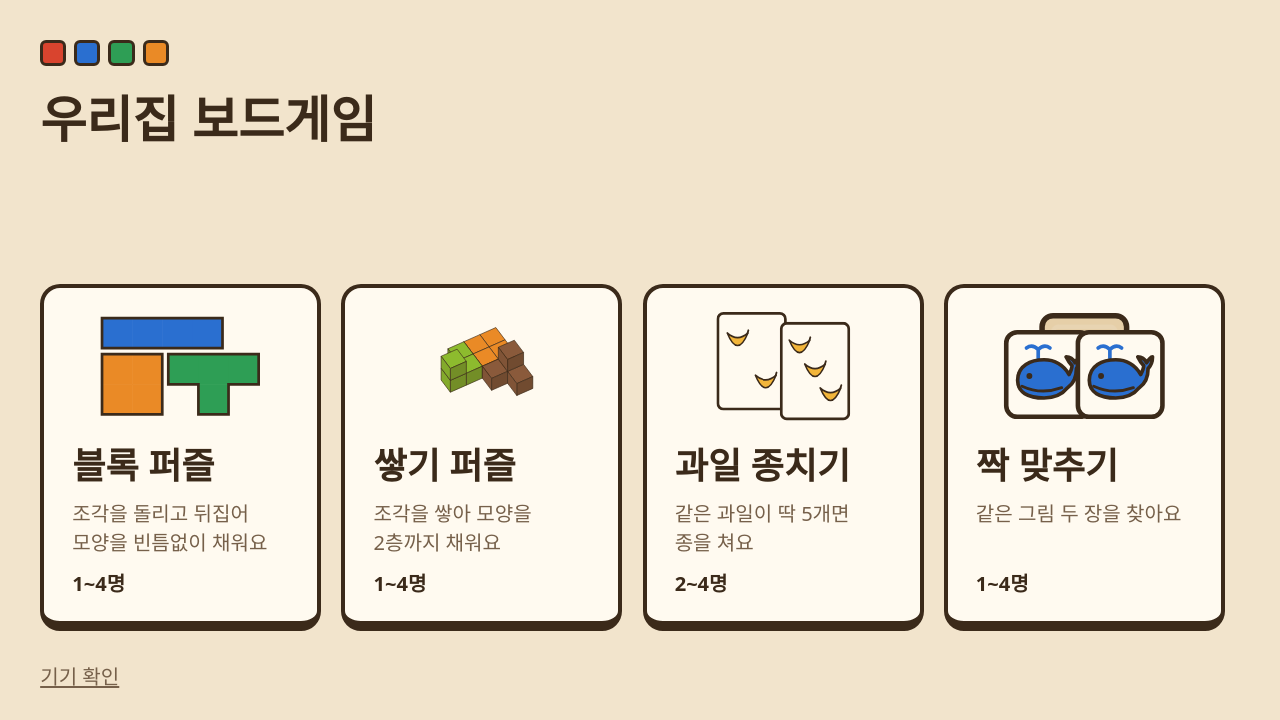
Test: App › 설정에서 메뉴로 돌아갈 수 있다
This screenshot has width=1280, height=720.
Click the button "블록 퍼즐 조각을 돌리고 뒤집어 모양을 빈틈없이 채워요 1~4명": {"x": 181, "y": 457} x1=40 y1=284 x2=321 y2=631
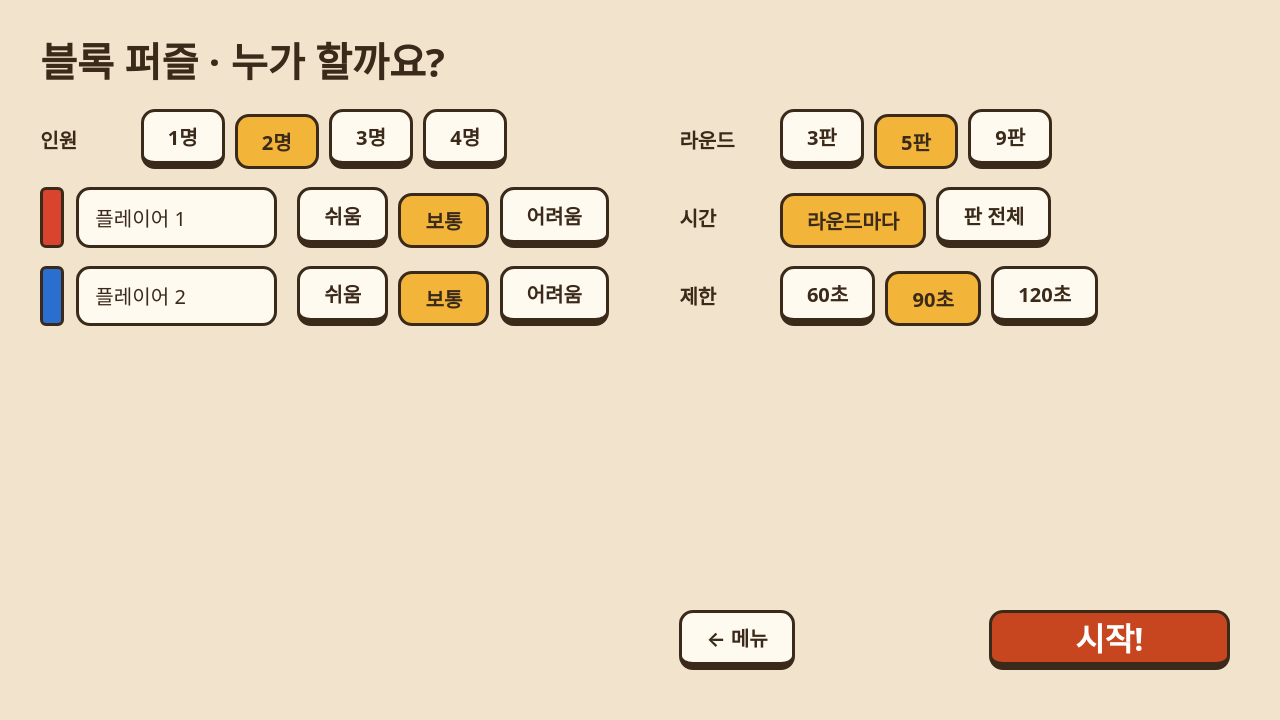
Click the button "← 메뉴": {"x": 737, "y": 640} x1=679 y1=610 x2=795 y2=670
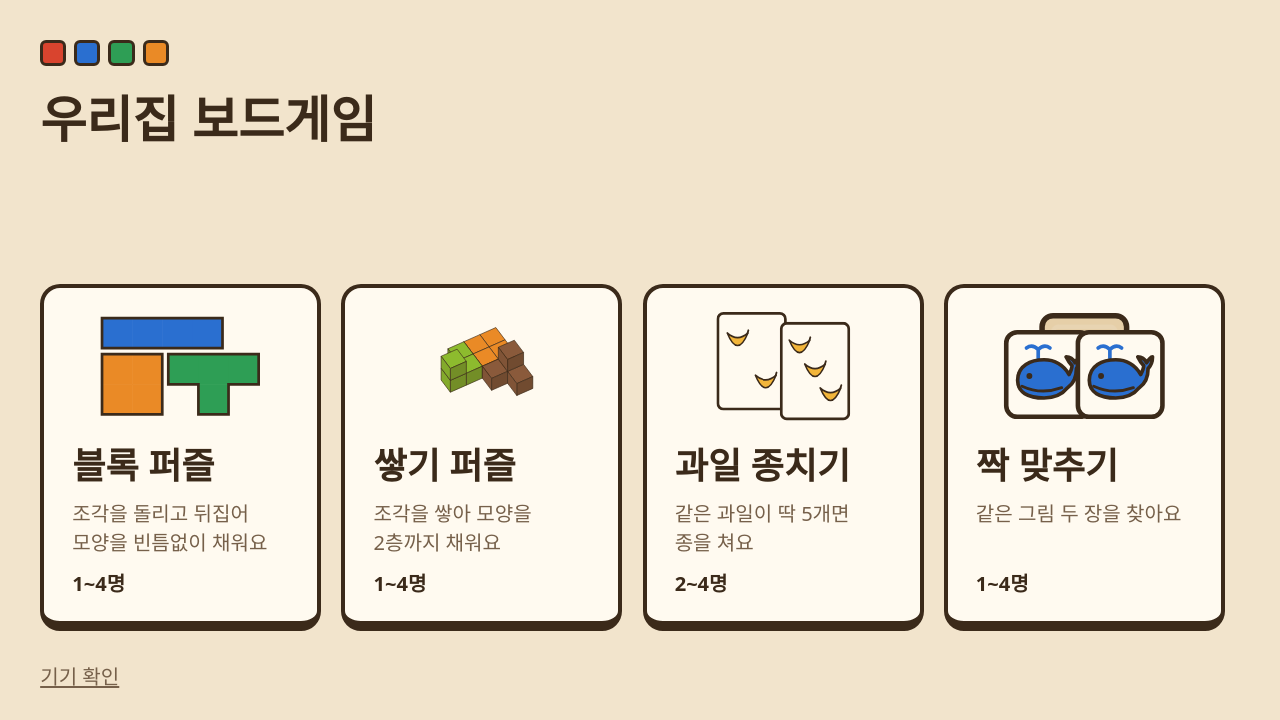
Now the heading "우리집 보드게임" is shown, box x1=40 y1=84 x2=376 y2=153
